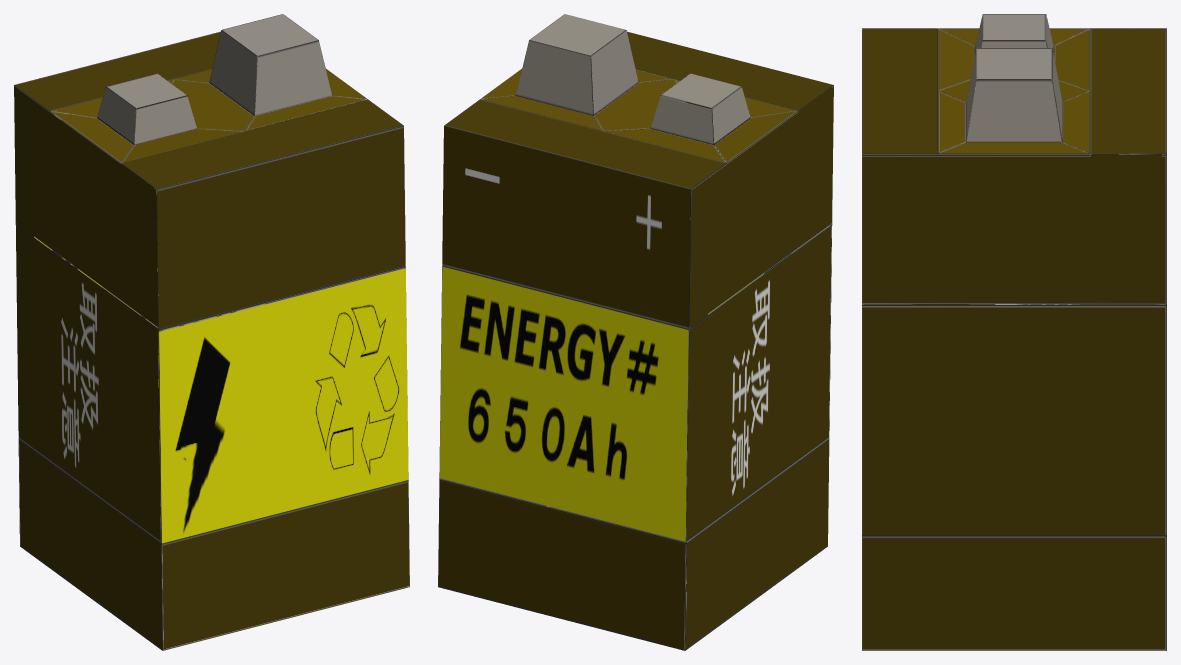
The model's file is Battery_big.fbx.
3 renders of one model, left to right at view 1: azimuth 30°, elevation 25°; view 2: azimuth 150°, elevation 25°; view 3: azimuth 270°, elevation 25°, orthographic. The views are drawn at different scales.
Parts seen in each view (by area): view 1: Cube; view 2: Cube; view 3: Cube.
Boxes of the visible parts, x1,y1,x2,y2 form: Cube: [14, 14, 409, 650]; Cube: [438, 14, 833, 650]; Cube: [862, 14, 1166, 650].
Bounding box in the file's own units: 307 × 603 × 300.
